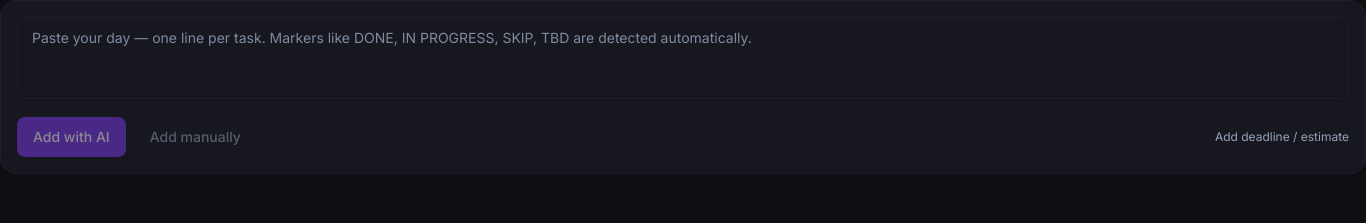
QuickAdd › surfaces a parser error and supports the manual fallback
Step 1. Type "raw task" into the text box named "New task" → point(683, 58), box [17,17,1349,99]
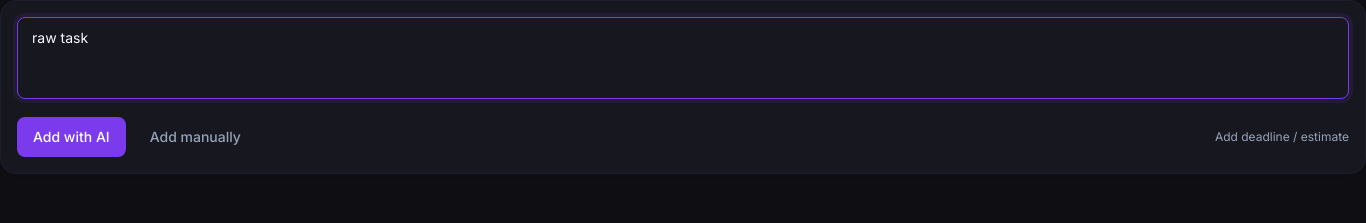
Step 2. Click the button "Add with AI" → point(71, 137), box [17,117,126,157]
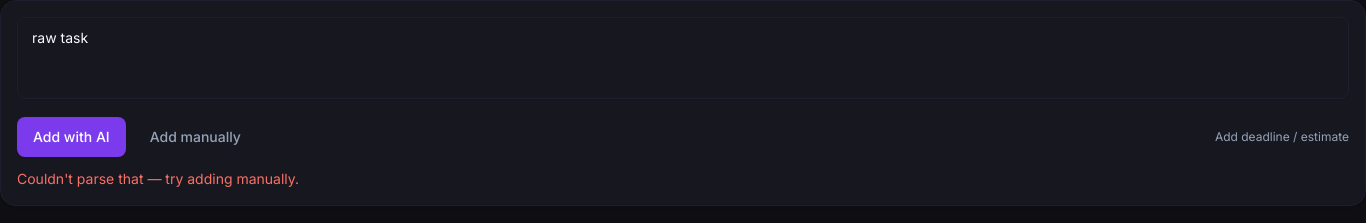
Expected: the text "Couldn't parse that — try adding manually." is shown, [17,170,299,187]
Step 3. Click the button "Add manually" → point(195, 137), box [134,117,257,157]
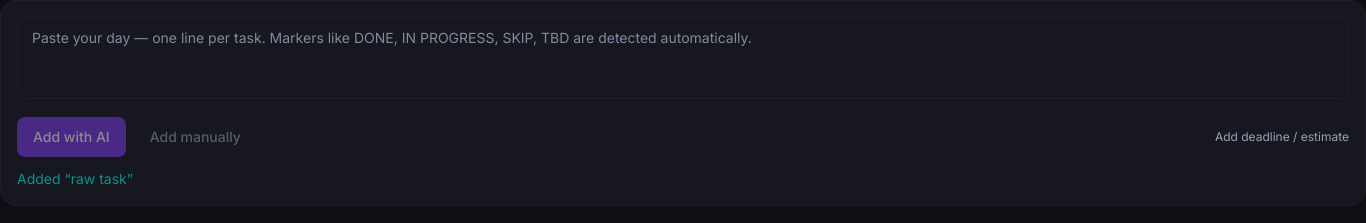
Expected: the text "Added “raw task”" is shown, [17,170,133,187]
